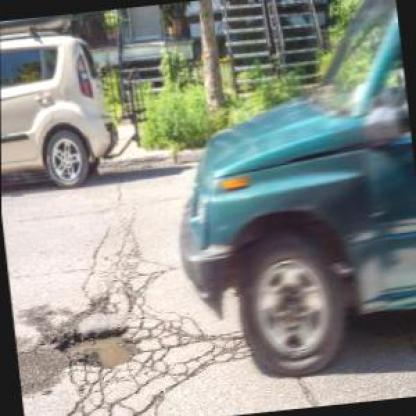pothole: (51, 322, 139, 370)
